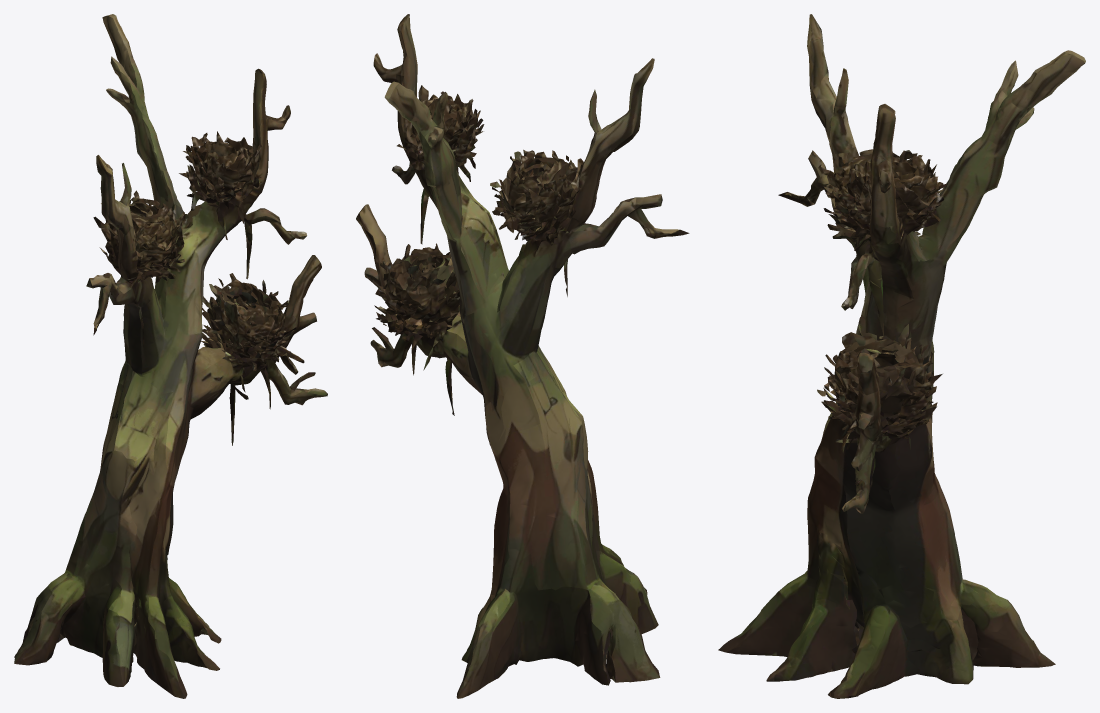
Rendered from crow_den.glb.
The picture shows the model from 3 angles, left to right: view 1: azimuth 30°, elevation 25°; view 2: azimuth 150°, elevation 25°; view 3: azimuth 270°, elevation 25°; orthographic projection. The views are drawn at different scales.
Visible parts, largest first — view 1: crow_den; view 2: crow_den; view 3: crow_den.
Boxes of the visible parts, x1=… form: crow_den: x1=14, y1=14, x2=327, y2=698; crow_den: x1=356, y1=14, x2=689, y2=698; crow_den: x1=718, y1=14, x2=1085, y2=698.
Bounding box in the file's own units: 1.93 × 3.5 × 1.81.
Materials: 1 (1 with a texture image).
